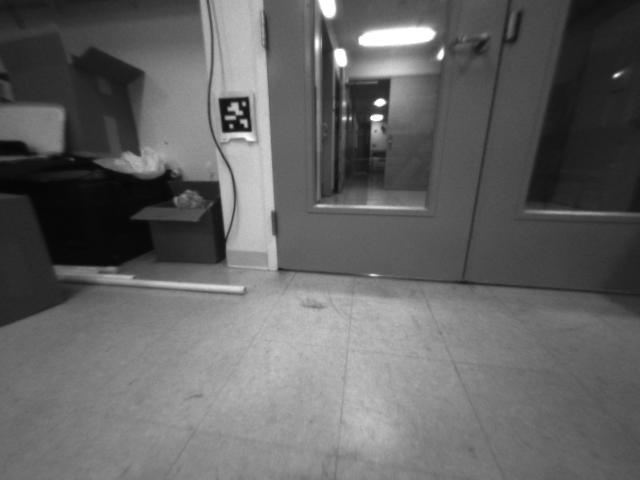door_handle: (441, 27, 493, 54)
